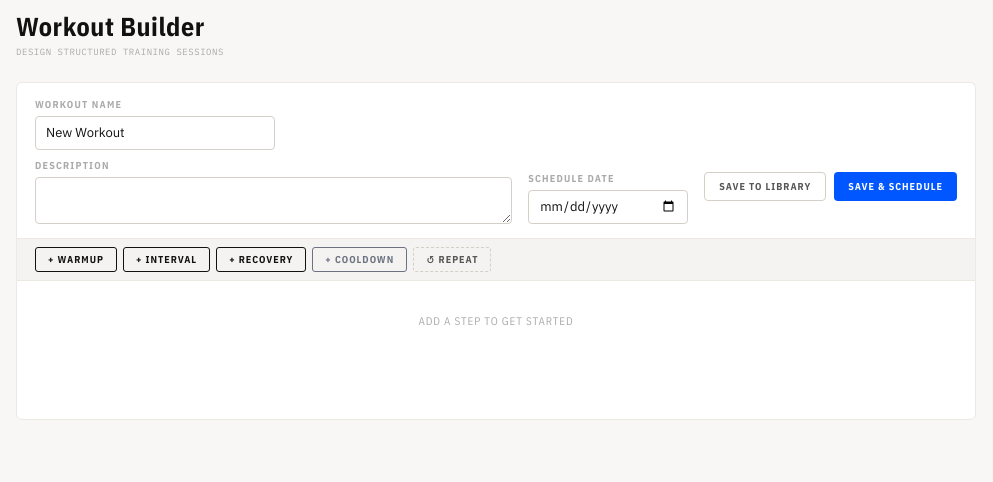
Scenario: test_add_interval_hr_zone › add interval → step appears
This screenshot has width=993, height=482.
Step 1. Click the button "+ Interval" → {"x": 167, "y": 259}, box [123,247,210,272]
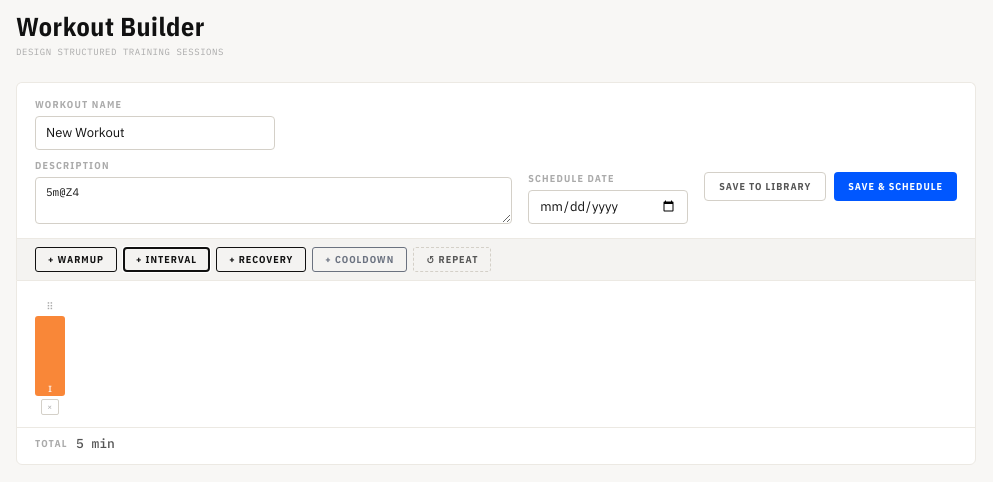
expect the element with test id "step-bar-0" is shown: met, box [35,316,65,396]
